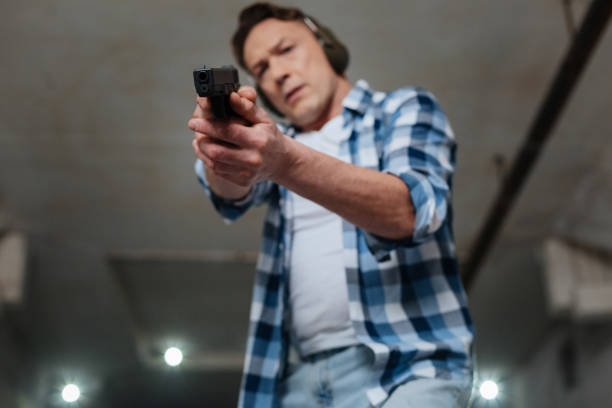gun: (192, 65, 239, 124)
